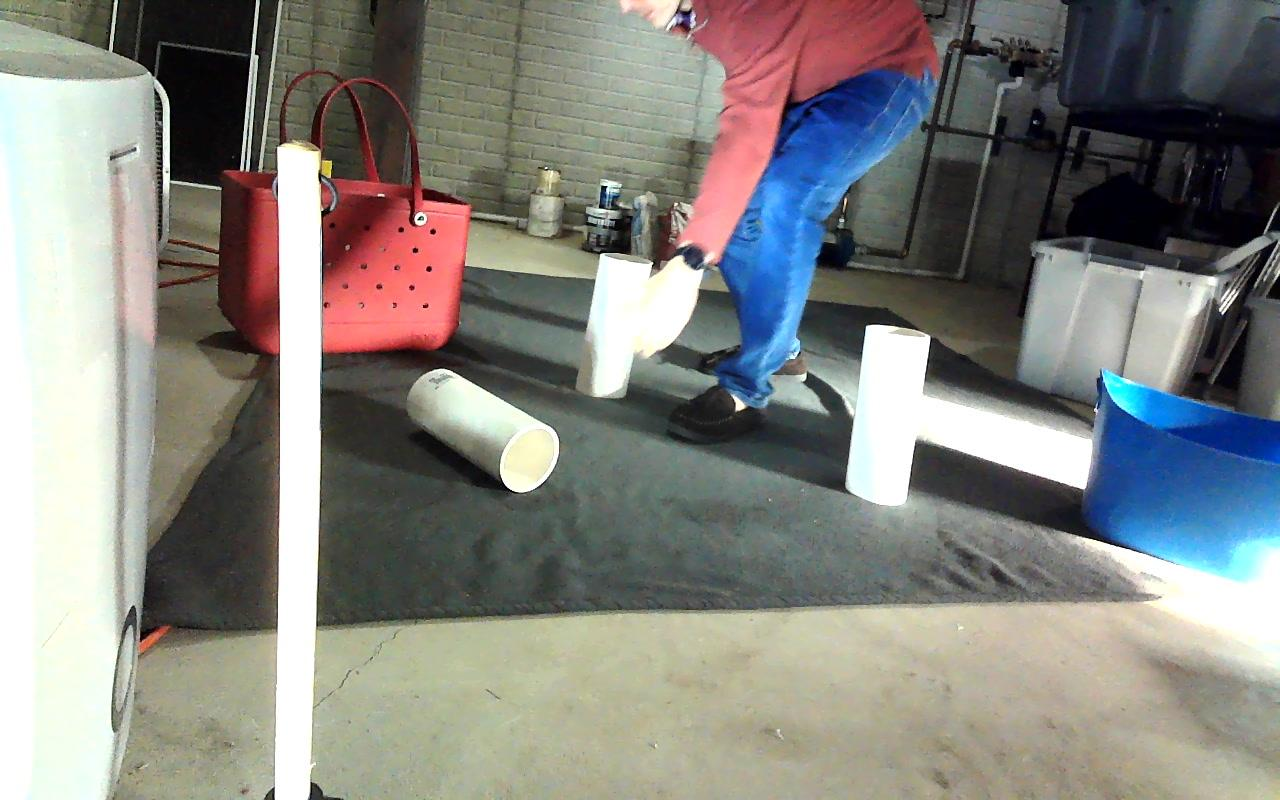coral: (406, 368, 558, 491), (845, 322, 930, 503), (577, 254, 652, 401)
